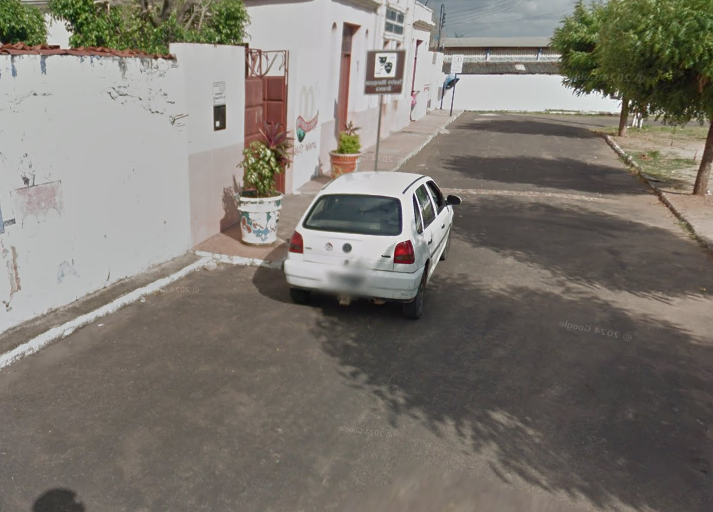car: (281, 168, 469, 327)
